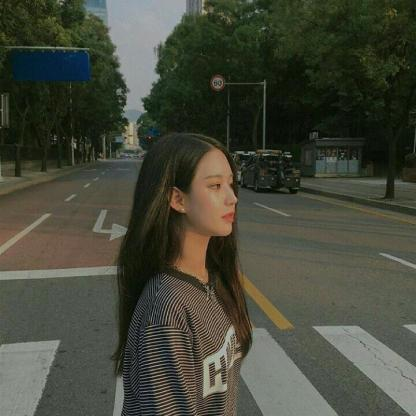person: (138, 139, 247, 264)
